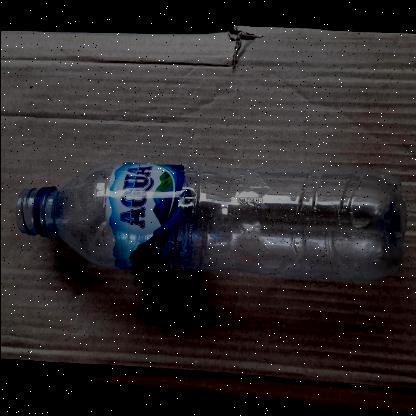Plastic Bottle: (10, 126, 416, 288)
